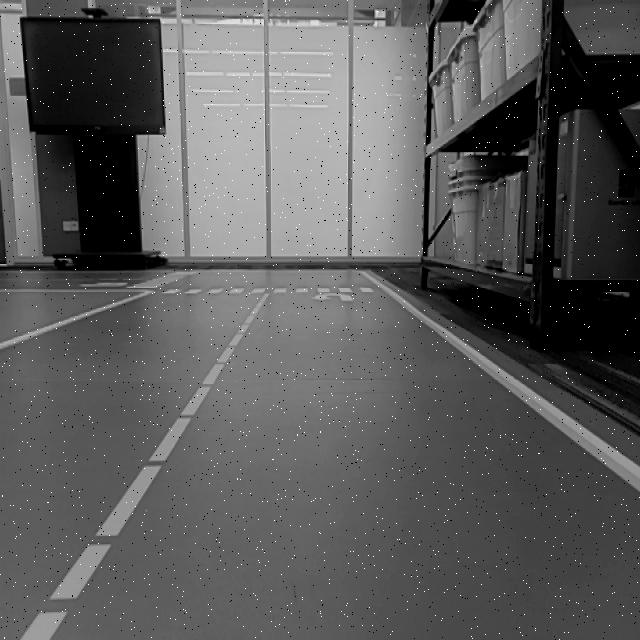left_lane: (22, 290, 272, 640)
right_lane: (358, 270, 640, 490), (0, 292, 151, 350)
